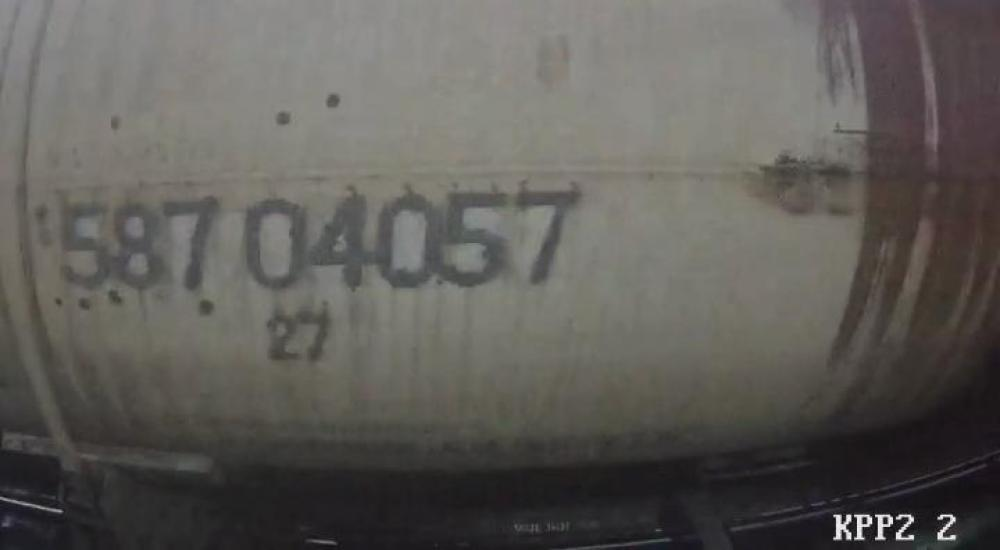Wagon-number: (56, 184, 585, 296)
